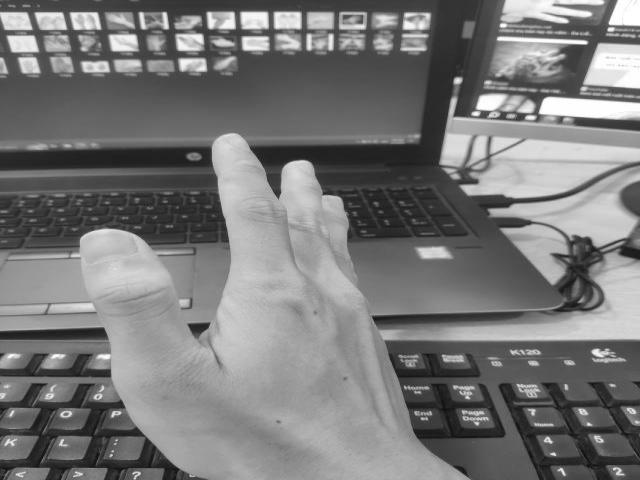not-gloved: (79, 130, 437, 480)
